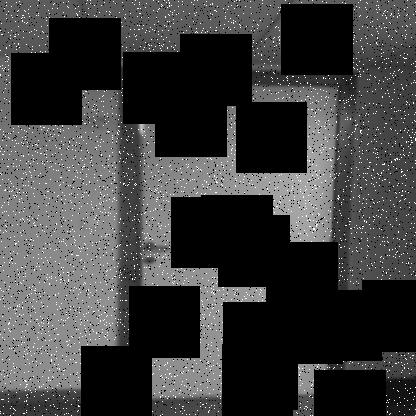Porte: (115, 64, 361, 401)
